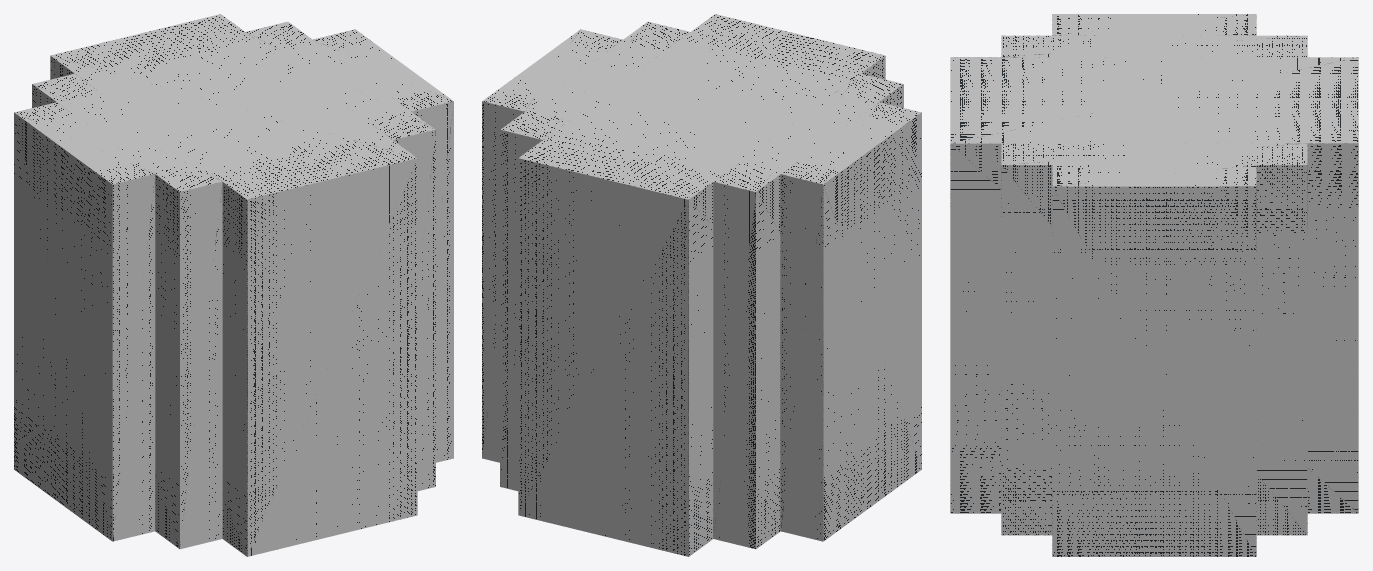
The model's file is dark-trunk-block.fbx.
3 views of the same model, side by side, from view 1: azimuth 30°, elevation 25°; view 2: azimuth 150°, elevation 25°; view 3: azimuth 270°, elevation 25° (orthographic). The views are drawn at different scales.
Visible parts, largest first — view 1: generated; view 2: generated; view 3: generated.
Part boxes in pixels (box(x1,y1,x2,y2)): generated: box(14, 14, 453, 556); generated: box(482, 14, 921, 556); generated: box(950, 14, 1358, 556).
Bounding box in the file's own units: 80 × 80 × 80.
Materials: 1 (1 with a texture image).
